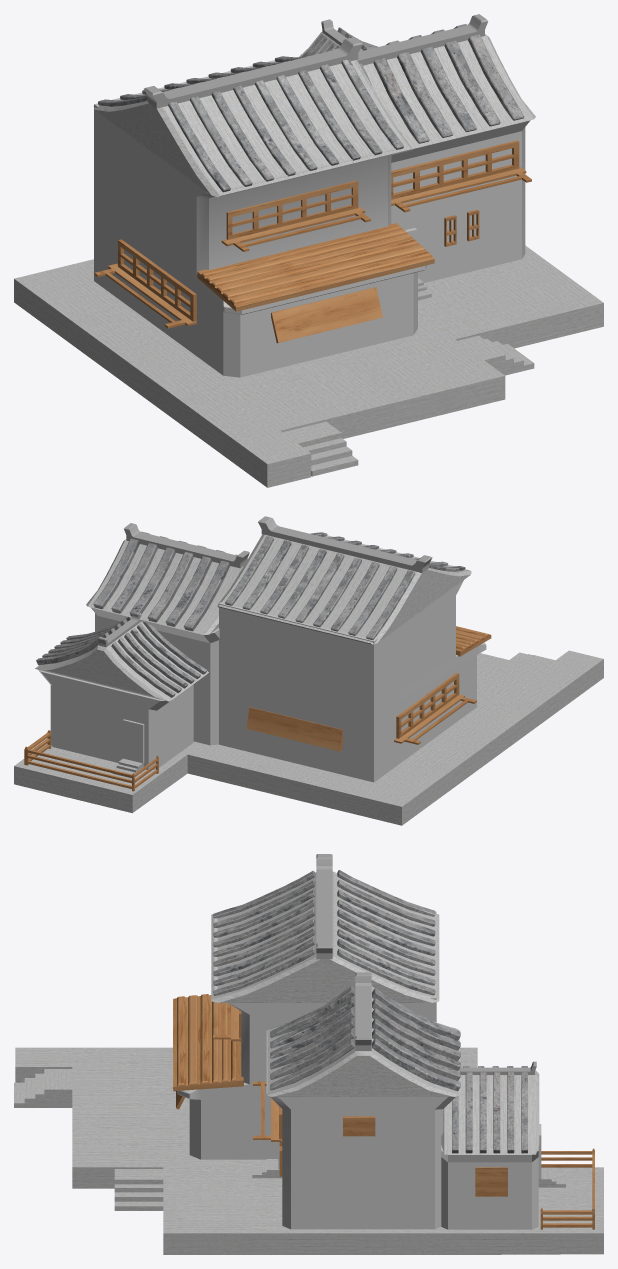
Rendered from minju3.fbx.
3 renders of one model, top to bottom at view 1: azimuth 30°, elevation 25°; view 2: azimuth 150°, elevation 25°; view 3: azimuth 270°, elevation 25°, orthographic. The views are drawn at different scales.
Visible parts, largest first — view 1: minju3; view 2: minju3; view 3: minju3.
Boxes of the visible parts, bbox=[...] form: minju3: bbox=[14, 14, 603, 487]; minju3: bbox=[14, 516, 603, 825]; minju3: bbox=[14, 854, 603, 1254].
Bounding box in the file's own units: 9.36 × 5.4 × 12.14.
